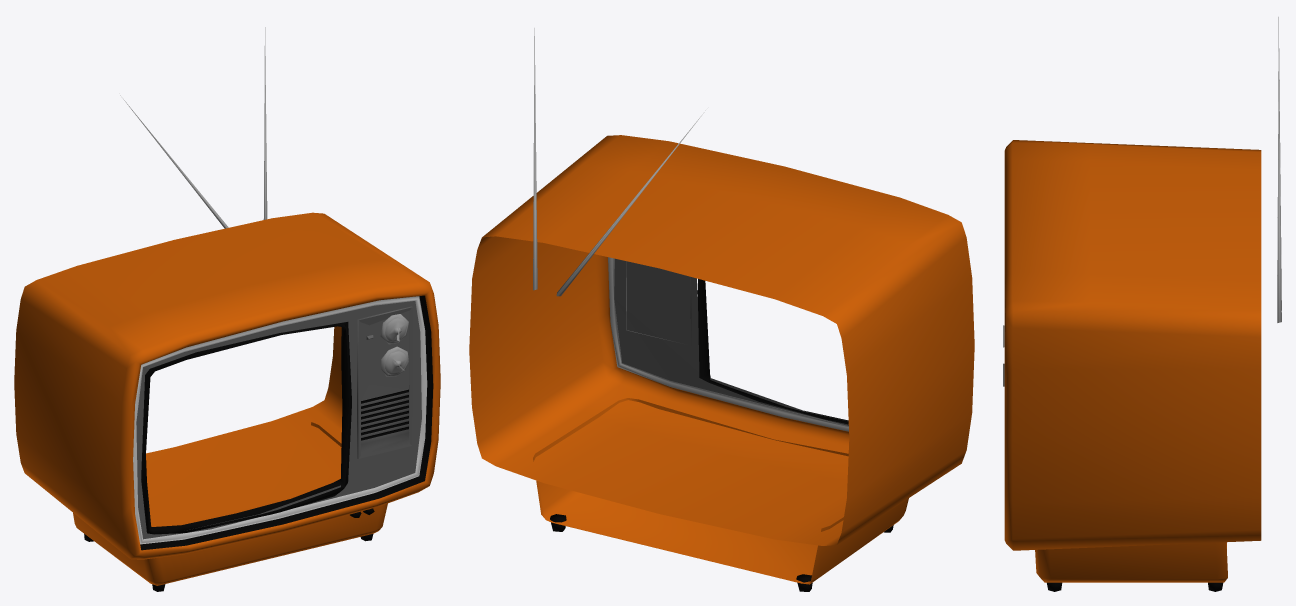
Rendered from yellowtv-BNrlY92t.obj.
The picture shows the model from 3 angles, left to right: view 1: azimuth 30°, elevation 25°; view 2: azimuth 150°, elevation 25°; view 3: azimuth 270°, elevation 25°; orthographic projection. The views are drawn at different scales.
Visible parts, largest first — view 1: tv_Retro_TV; view 2: tv_Retro_TV; view 3: tv_Retro_TV.
Boxes of the visible parts, x1,y1,x2,y2 form: tv_Retro_TV: [14, 27, 440, 591]; tv_Retro_TV: [469, 28, 974, 591]; tv_Retro_TV: [1003, 17, 1281, 591].
Bounding box in the file's own units: 110 × 150 × 70.63.
